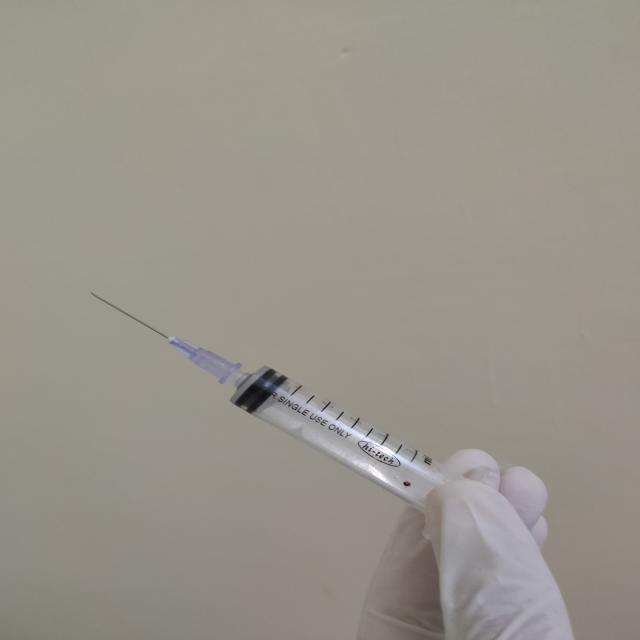B3: (90, 291, 436, 507), (244, 350, 401, 501), (80, 282, 246, 382)
